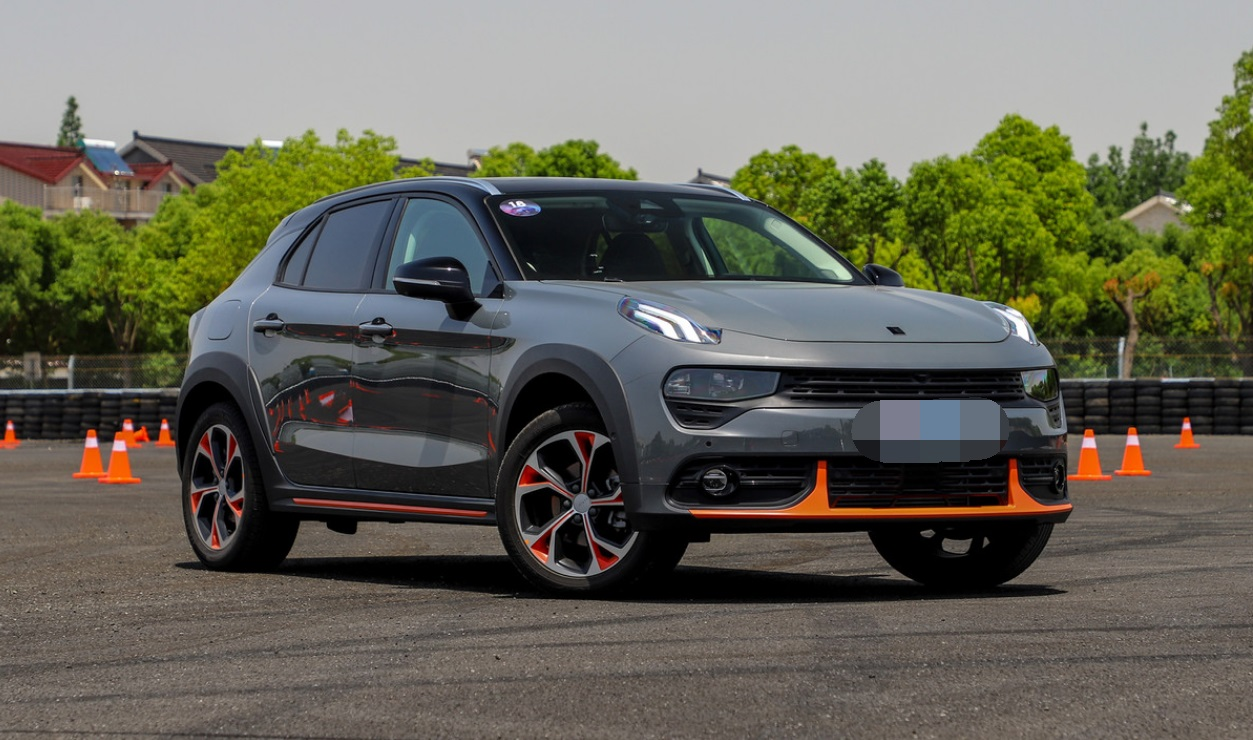SUV: (170, 173, 1081, 607)
